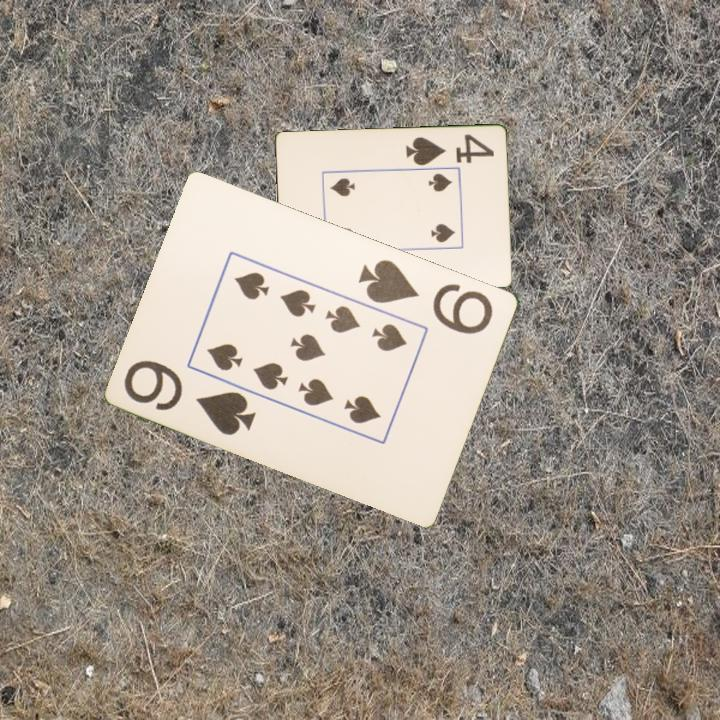4s: (402, 131, 496, 168)
9s: (355, 255, 497, 337), (120, 356, 260, 438)
